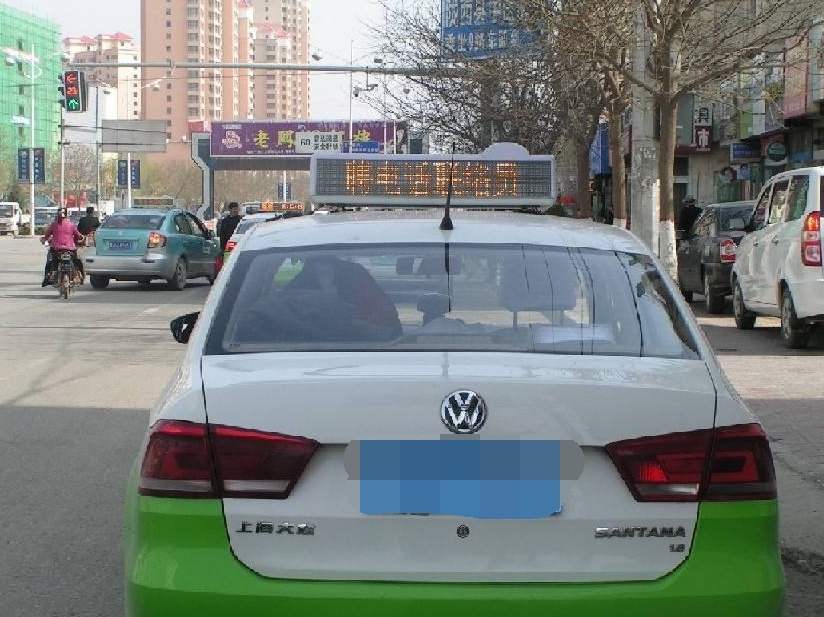taxi: (127, 152, 794, 617)
